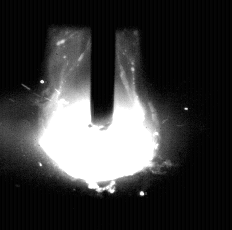arame: (89, 0, 115, 131)
poca: (37, 0, 160, 230)
